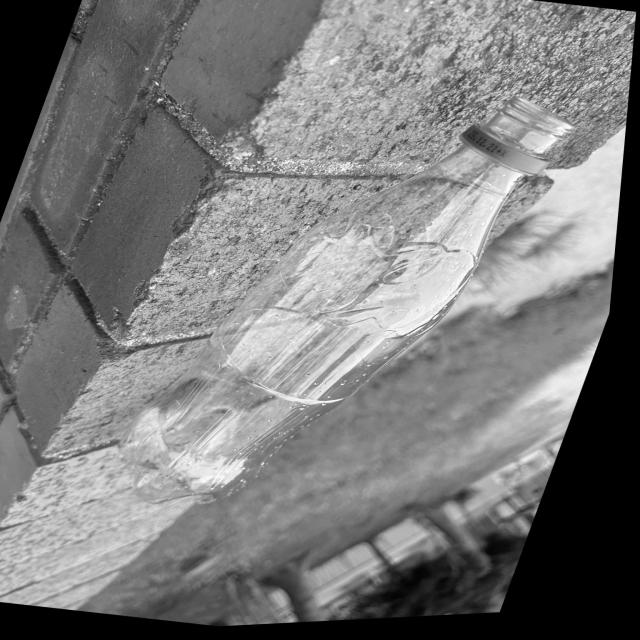empty: (122, 98, 572, 502)
